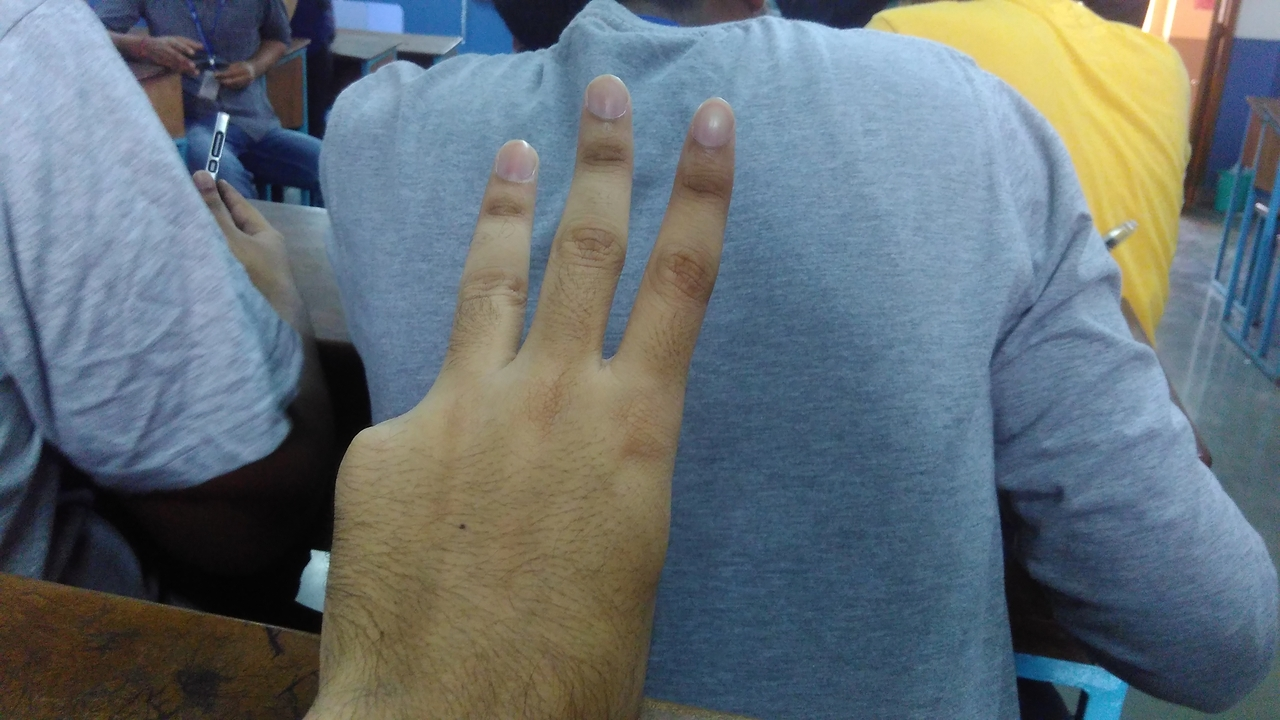fingertip: (478, 130, 542, 184), (682, 94, 742, 150), (572, 66, 632, 120)
